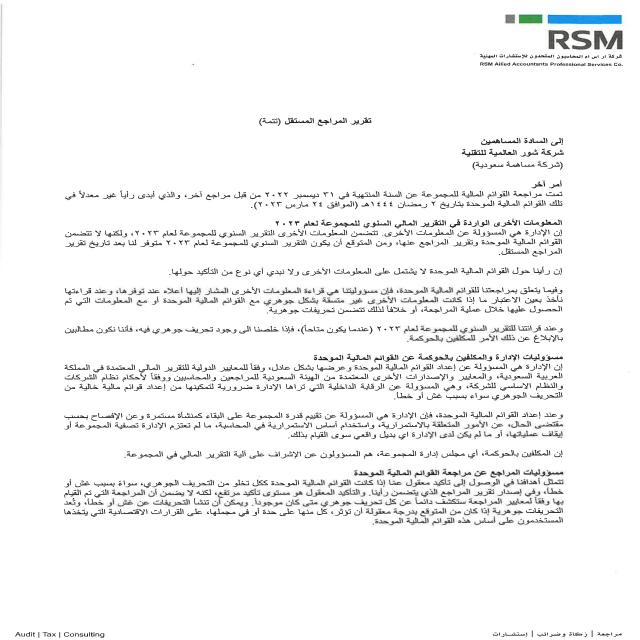auditor_report: (226, 118, 398, 144)
